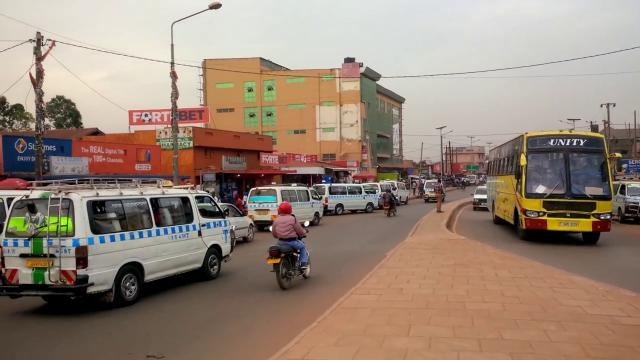bus: (486, 136, 614, 243)
car: (218, 200, 255, 240), (612, 180, 640, 224), (472, 186, 488, 211)
motorcycle: (268, 219, 310, 289), (380, 192, 398, 218)
van: (0, 185, 235, 302), (246, 184, 322, 230), (328, 183, 372, 214), (362, 182, 399, 208), (424, 181, 444, 201)
